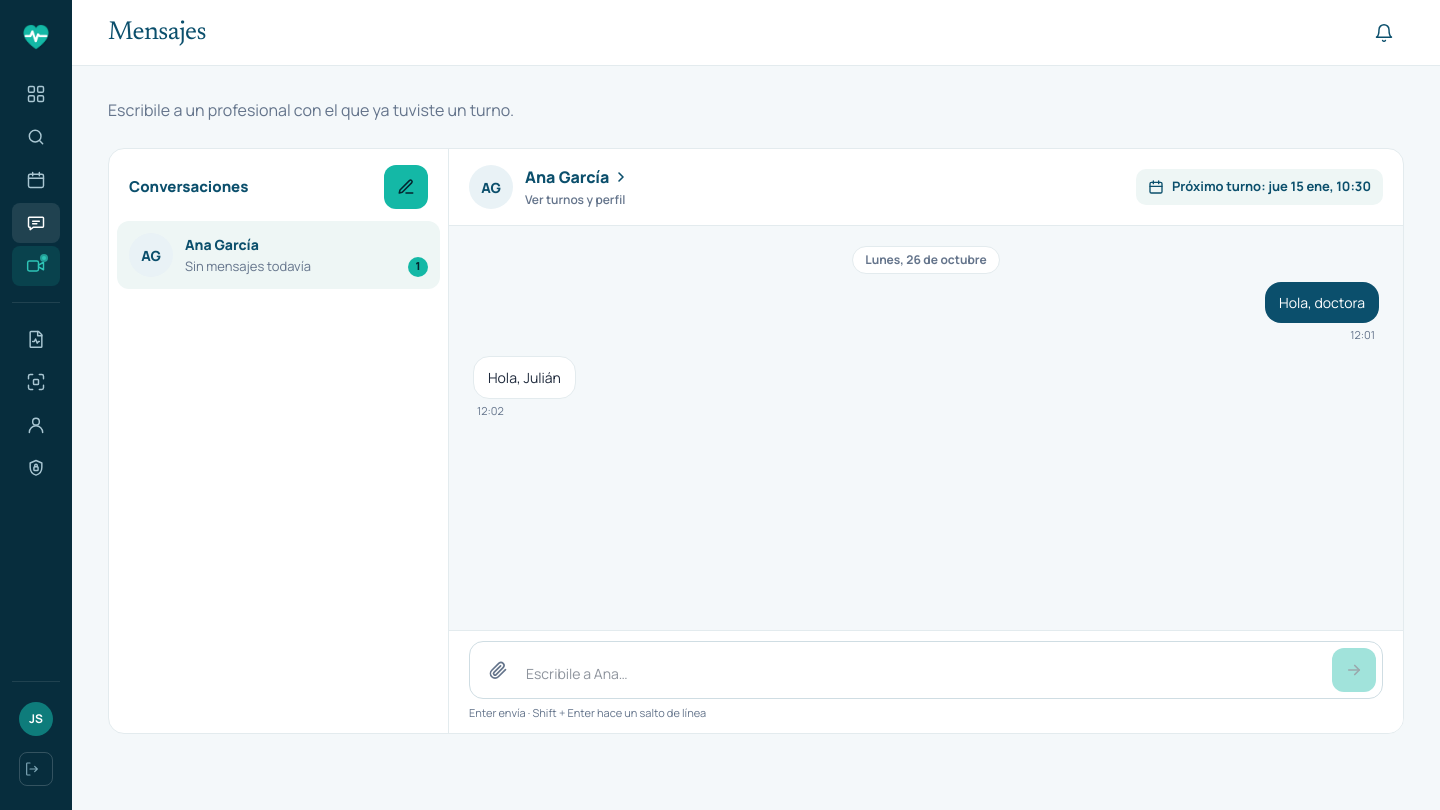
MessagesPage (ENG-70) › enviar con Enter guarda el mensaje recortado y limpia el borrador
Type "  Llevo los estudios el jueves  " into the text box named "Mensaje para Ana García" at [925, 674], box [526,656,1324,692]
Then press Enter
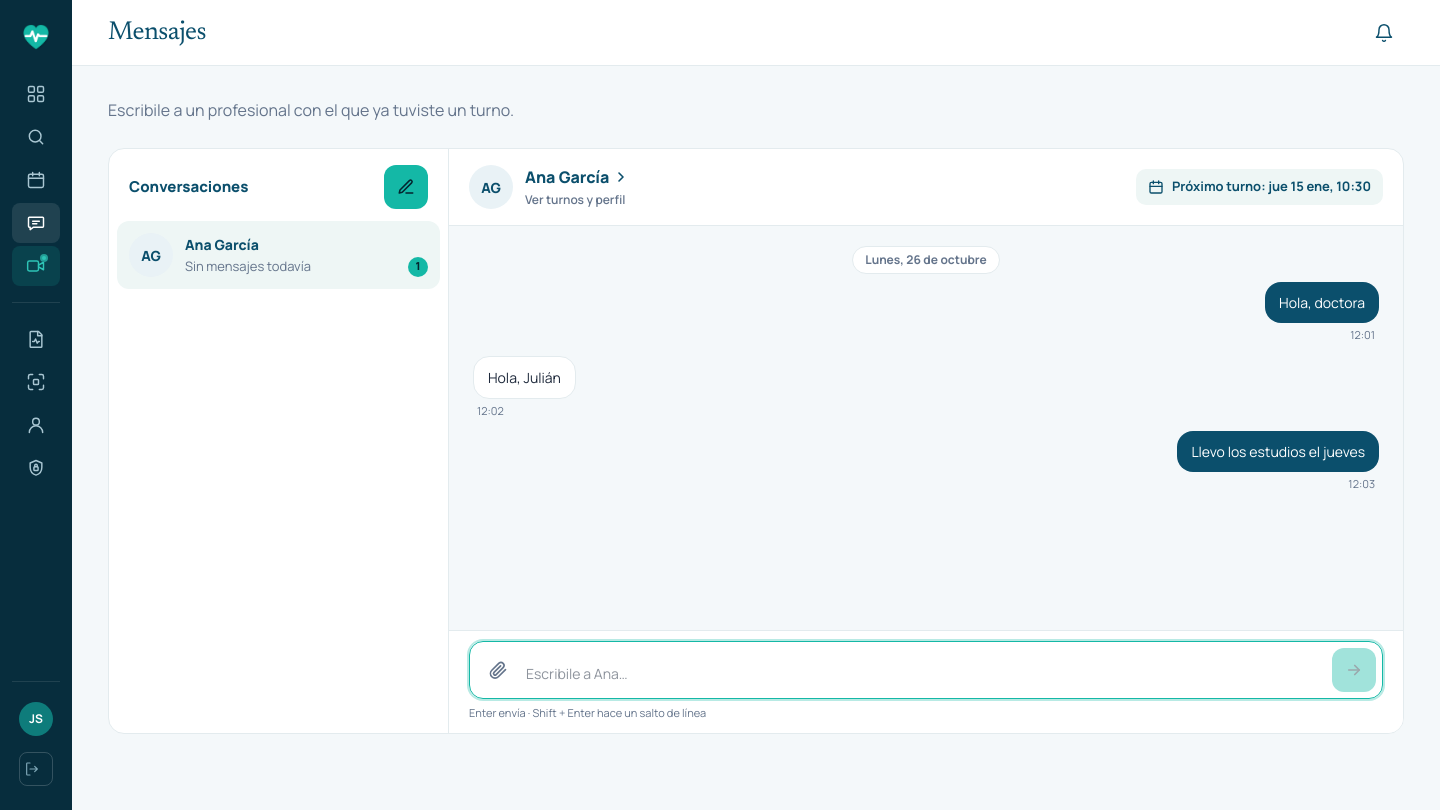
Now the text "Llevo los estudios el jueves" is shown, box [1191,441,1365,462]
